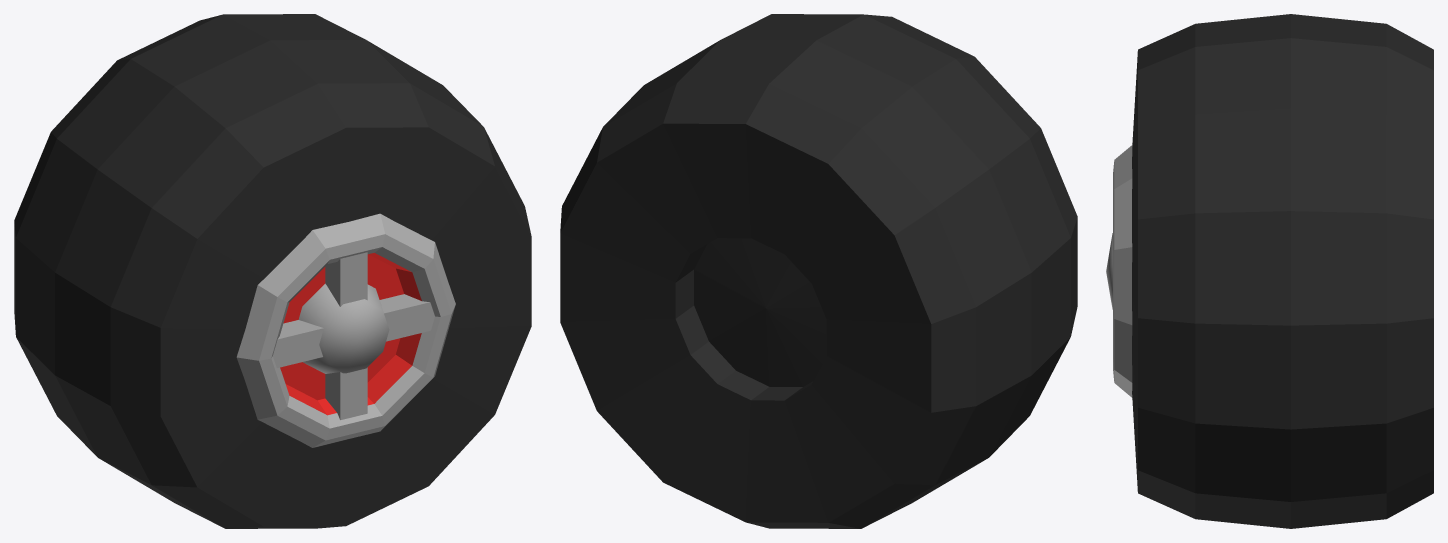
Rendered from wheel4.fbx.
3 views of the same model, side by side, from view 1: azimuth 30°, elevation 25°; view 2: azimuth 150°, elevation 25°; view 3: azimuth 270°, elevation 25° (orthographic).
Visible parts, largest first — view 1: lanot_wheel2_L; view 2: lanot_wheel2_L; view 3: lanot_wheel2_L.
Part boxes in pixels (x1,y1,x2,y2): lanot_wheel2_L: [14, 14, 531, 528]; lanot_wheel2_L: [560, 14, 1077, 528]; lanot_wheel2_L: [1106, 14, 1433, 528].
Size of the model in its own units: 152 by 156 by 99.21.
